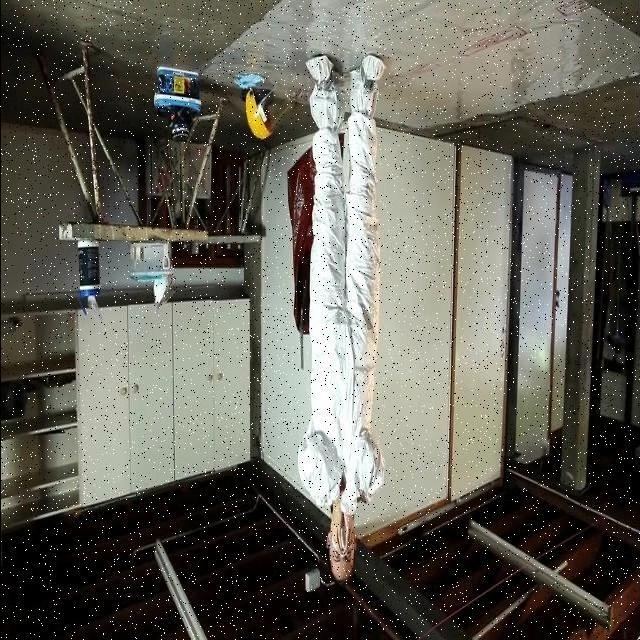no_apron: (321, 490, 352, 554)
